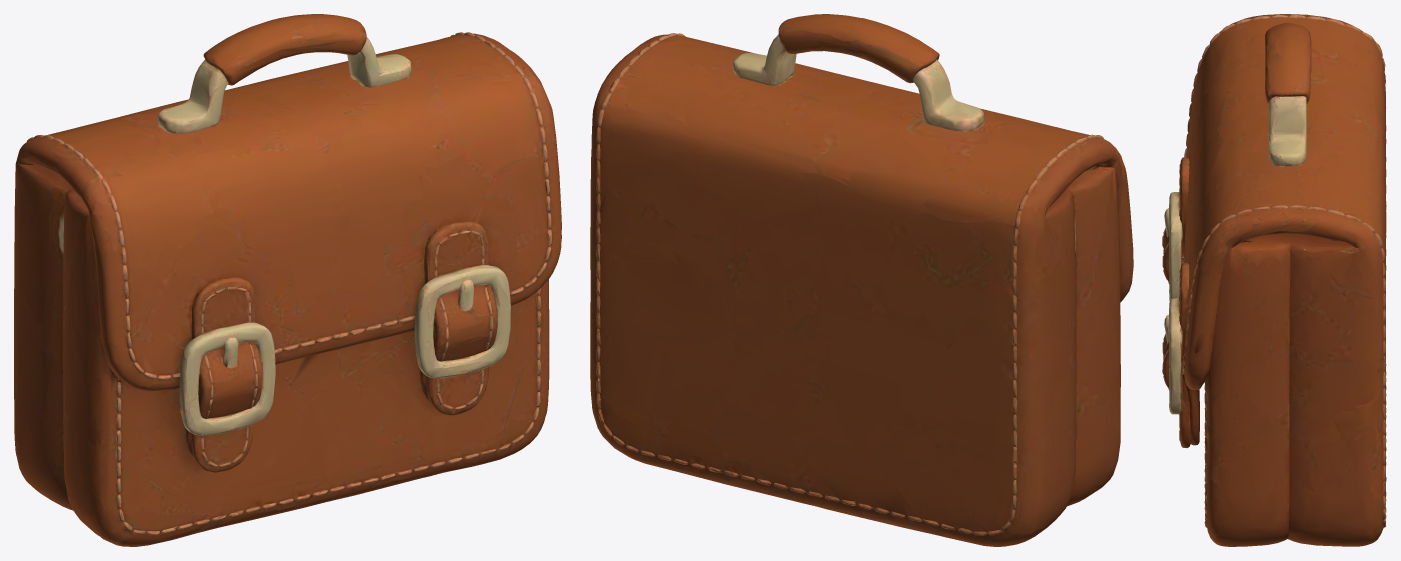
The model's file is t2-leather-v2.glb.
3 renders of one model, left to right at view 1: azimuth 30°, elevation 25°; view 2: azimuth 150°, elevation 25°; view 3: azimuth 270°, elevation 25°, orthographic. The views are drawn at different scales.
Visible parts, largest first — view 1: mesh_node; view 2: mesh_node; view 3: mesh_node.
Boxes of the visible parts, <box> form: mesh_node: <box>14,14,561,546</box>; mesh_node: <box>590,14,1133,546</box>; mesh_node: <box>1162,14,1386,546</box>.
Size of the model in its own units: 1.9 by 1.81 by 0.8655.
1 material, 1 textured.
